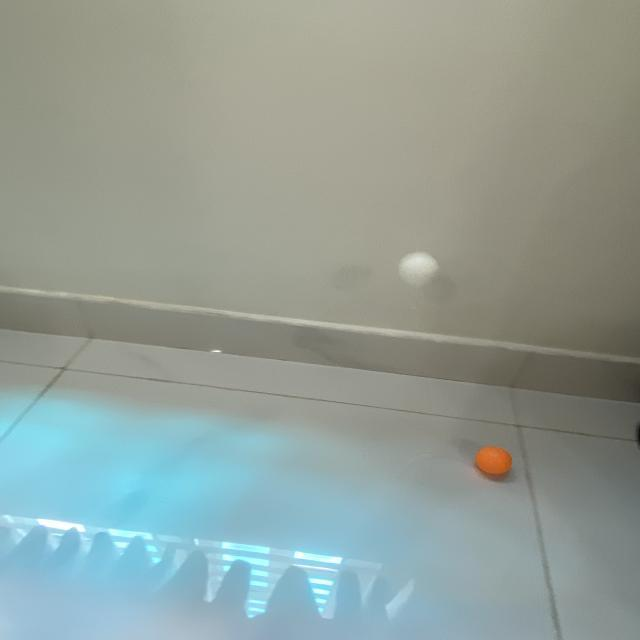ping-pong-ball: (401, 252, 439, 288), (476, 445, 514, 476)
